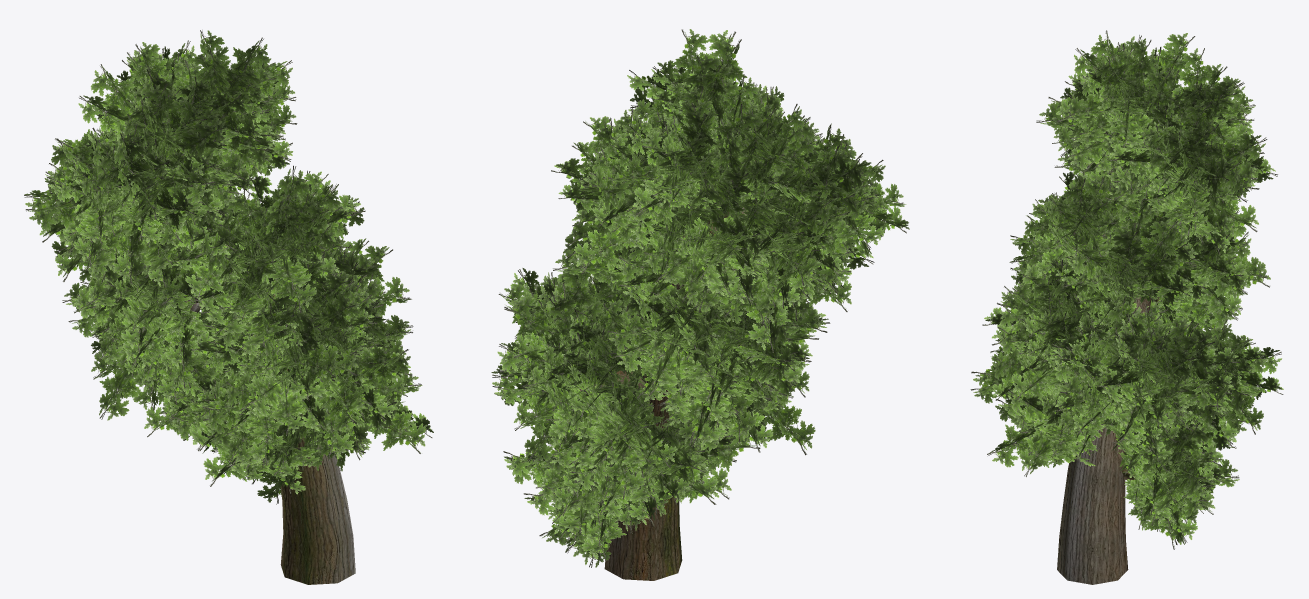
File: eztree-white-oak-open-a.glb
3 renders of one model, left to right at view 1: azimuth 30°, elevation 25°; view 2: azimuth 150°, elevation 25°; view 3: azimuth 270°, elevation 25°, orthographic. The views are drawn at different scales.
Parts seen in each view (by area): view 1: eztree-white-oak-open-a; view 2: eztree-white-oak-open-a; view 3: eztree-white-oak-open-a.
Part boxes in pixels (box(x1,y1,x2,y2)): eztree-white-oak-open-a: box(24, 30, 433, 584); eztree-white-oak-open-a: box(491, 29, 909, 580); eztree-white-oak-open-a: box(970, 30, 1283, 584).
Bounding box in the file's own units: 40.12 × 53.24 × 31.98.
2 materials, 2 textured.
